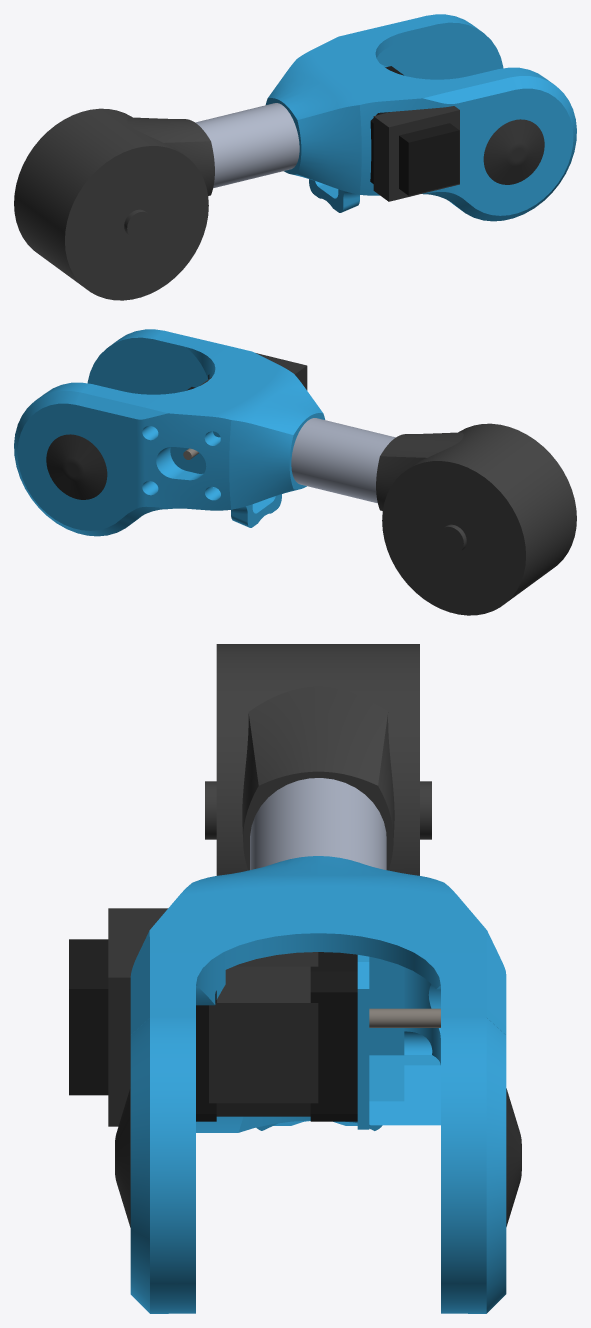
The model's file is arm_link.dae.
The picture shows the model from 3 angles, top to bottom: view 1: azimuth 30°, elevation 25°; view 2: azimuth 150°, elevation 25°; view 3: azimuth 270°, elevation 25°; orthographic projection. The views are drawn at different scales.
Visible parts, largest first — view 1: Body_1 (×6); view 2: Body_1 (×5); view 3: Body_1 (×10), _3DGeom_158.
Part boxes in pixels (left/top/right/bottom): Body_1 (×6): left=14, top=14, right=576, bottom=300; Body_1 (×5): left=14, top=329, right=576, bottom=615; Body_1 (×10): left=69, top=644, right=521, bottom=1313; _3DGeom_158: left=310, top=952, right=357, bottom=1121.
Size of the model in its own units: 0.2925 by 0.1157 by 0.0848.
